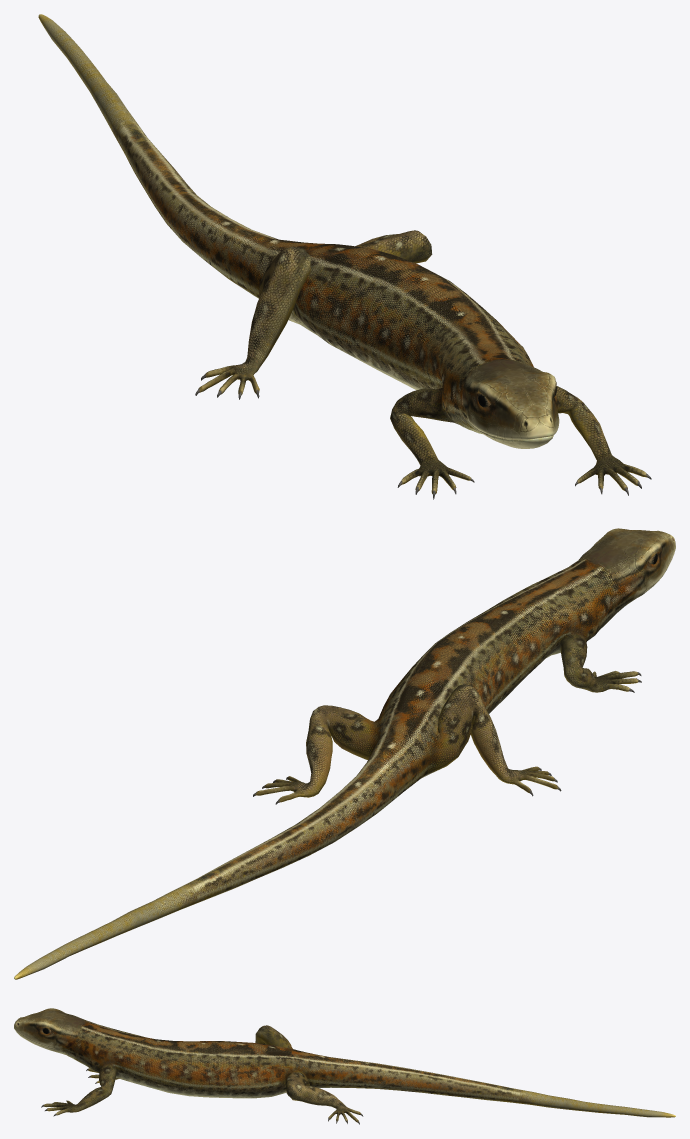
Rendered from Standing123.obj.
3 renders of one model, top to bottom at view 1: azimuth 30°, elevation 25°; view 2: azimuth 150°, elevation 25°; view 3: azimuth 270°, elevation 25°, orthographic. The views are drawn at different scales.
Visible parts, largest first — view 1: Lizard; view 2: Lizard; view 3: Lizard.
Part boxes in pixels (x1,y1,x2,y2): Lizard: (38,14,651,499); Lizard: (14,528,675,979); Lizard: (14,1008,675,1124).
Bounding box in the file's own units: 25.34 × 12.04 × 103.
